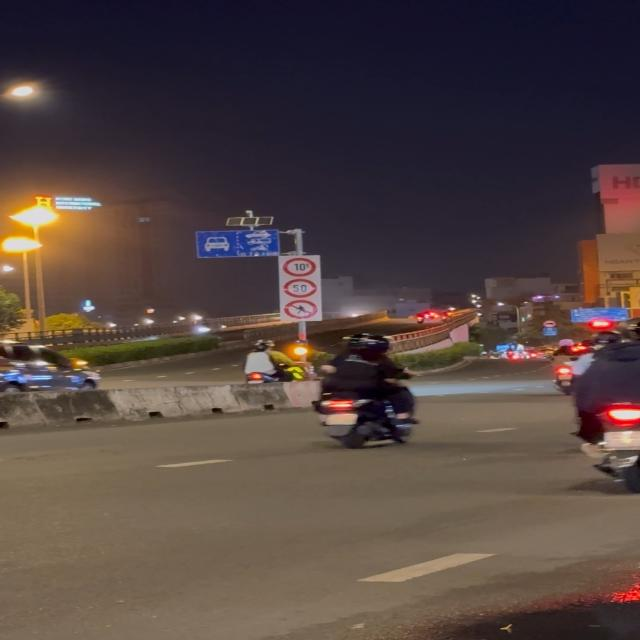Bien bao cam nguoi di bo: (286, 298, 319, 320)
Bien bao toc do toi da cho phep: (284, 277, 322, 299)
